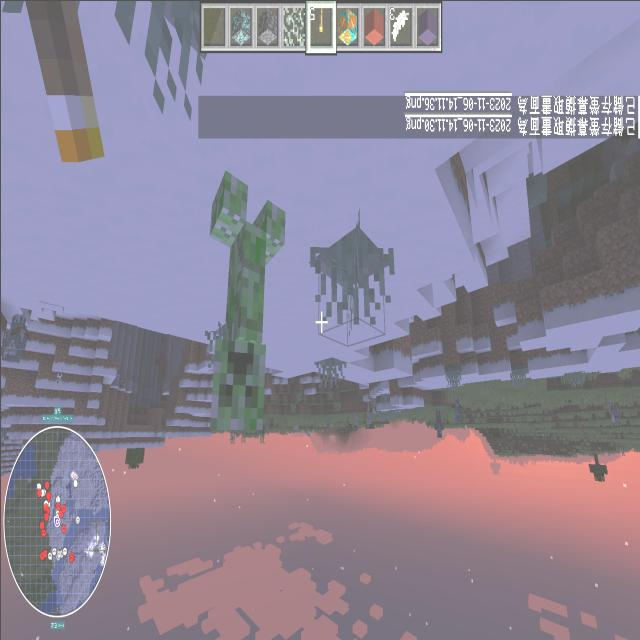Creeper: (200, 168, 286, 441)
Skeleton: (432, 405, 444, 442), (452, 393, 462, 425), (363, 398, 371, 427), (350, 409, 360, 427)
Zombie: (324, 414, 331, 430)
